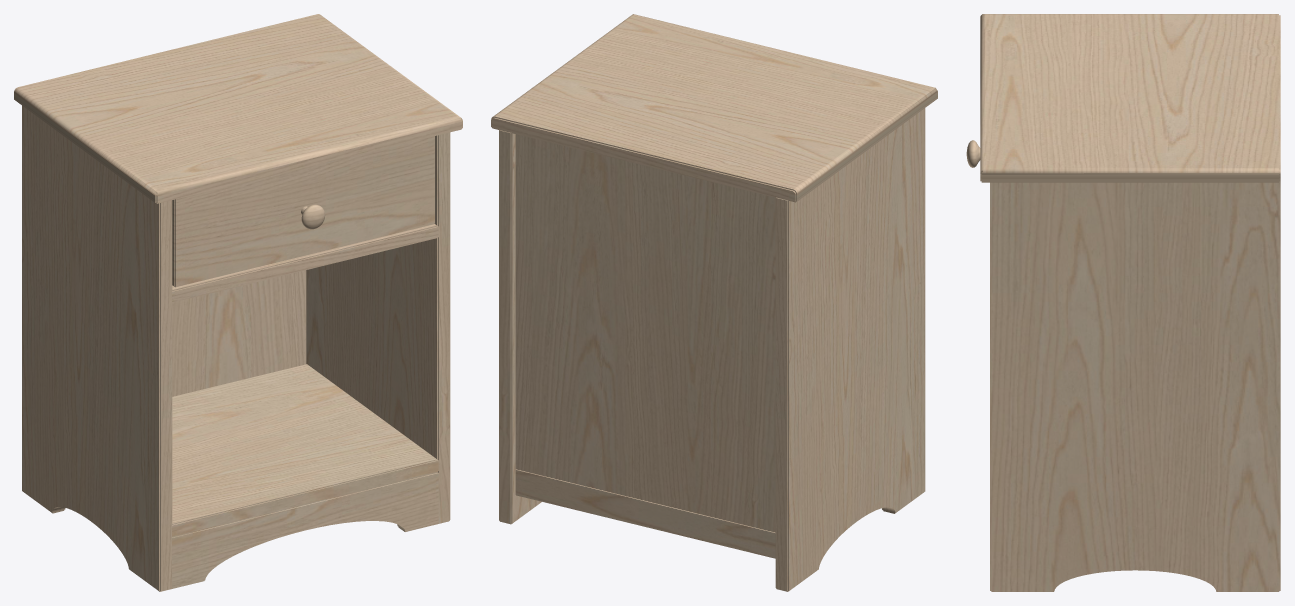
File: natural-wood-shelf-nightstand.glb
3 renders of one model, left to right at view 1: azimuth 30°, elevation 25°; view 2: azimuth 150°, elevation 25°; view 3: azimuth 270°, elevation 25°, orthographic. The views are drawn at different scales.
Visible parts, largest first — view 1: side-1, top, floor, side1, drawer_front, back, apron, divider; view 2: back, side-1, top, side1, backrail; view 3: side1, top.
Boxes of the visible parts, left/top/right/bottom form: side-1: left=22, top=105, right=172, bottom=591; top: left=14, top=14, right=462, bottom=203; floor: left=172, top=364, right=438, bottom=536; side1: left=306, top=132, right=450, bottom=523; drawer_front: left=172, top=136, right=434, bottom=287; back: left=172, top=270, right=306, bottom=396; apron: left=171, top=472, right=438, bottom=588; divider: left=172, top=223, right=438, bottom=302; back: left=515, top=134, right=775, bottom=532; side-1: left=775, top=108, right=925, bottom=591; top: left=491, top=14, right=937, bottom=202; side1: left=499, top=130, right=541, bottom=524; backrail: left=515, top=469, right=775, bottom=558; side1: left=990, top=181, right=1280, bottom=591; top: left=980, top=14, right=1280, bottom=182.
Bounding box in the file's own units: 0.46 × 0.58 × 0.387.
Materials: 2 (2 with a texture image).
